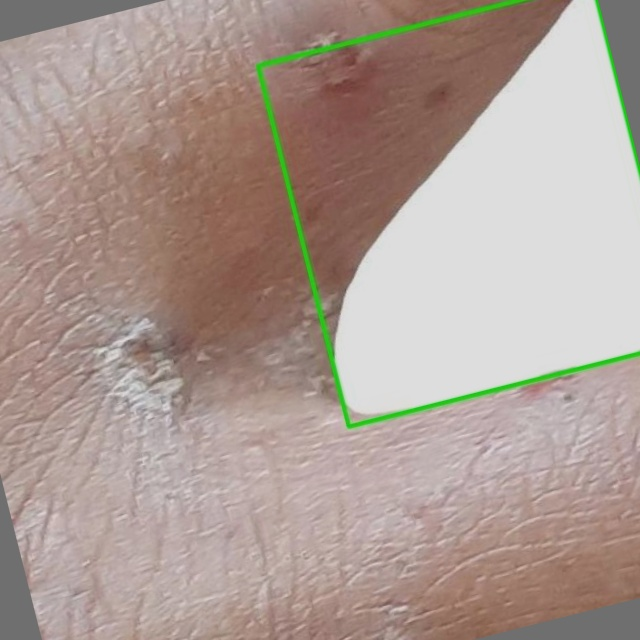Scabies: (258, 0, 639, 426)
